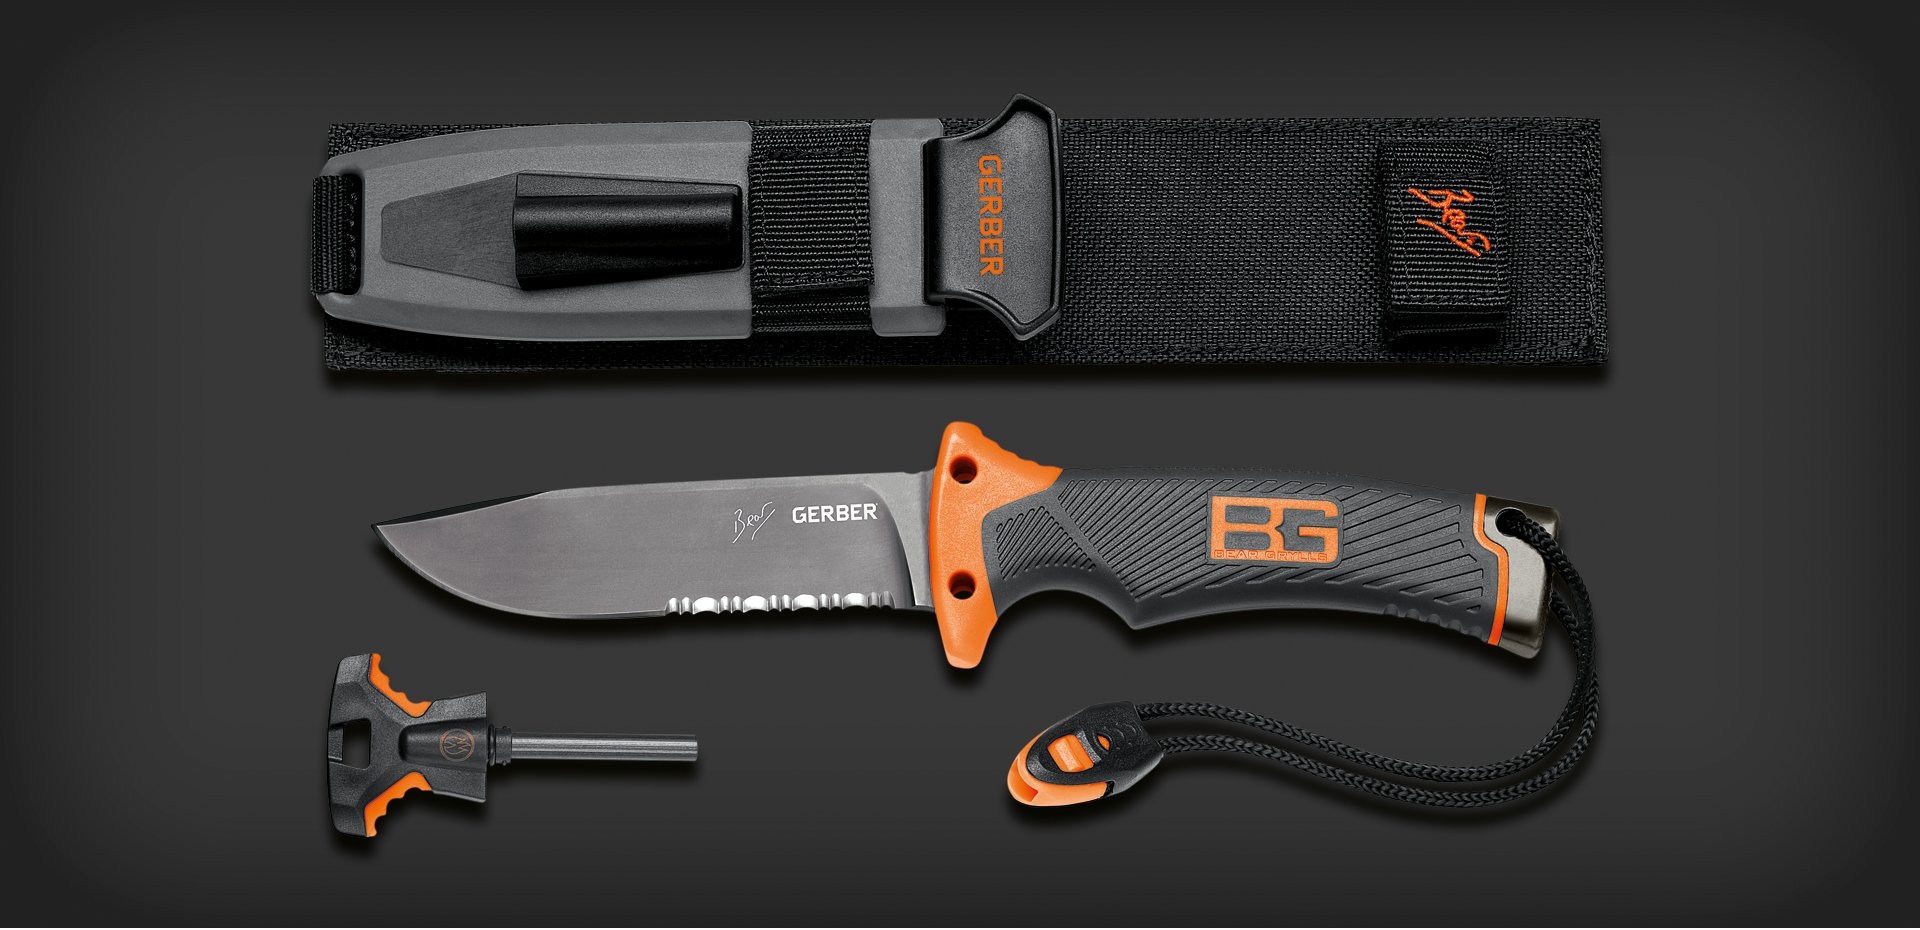knief: (309, 423, 1722, 653)
